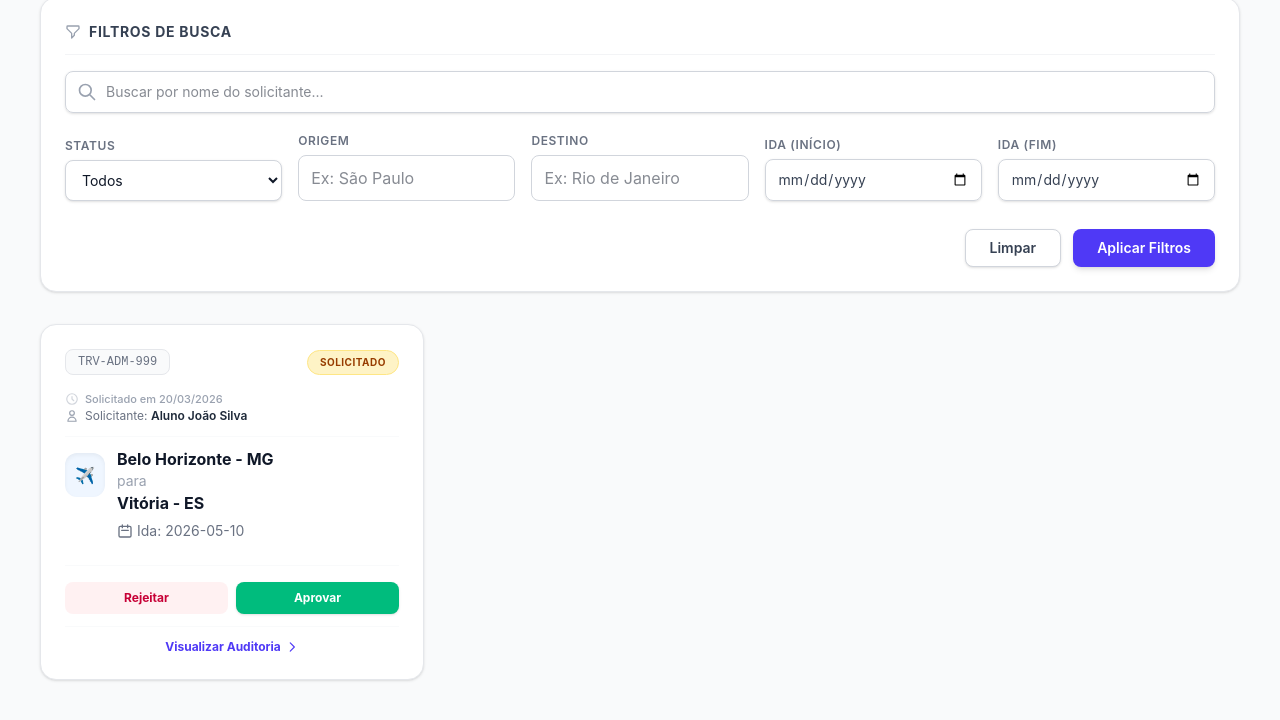
Test case: Travel Front-end E2E - Fluxos de Negócio › Visão do Admin › deve aprovar um pedido via SweetAlert2
(page scrolled)
Click the button "Aprovar": (318, 598) [236, 582, 399, 614]
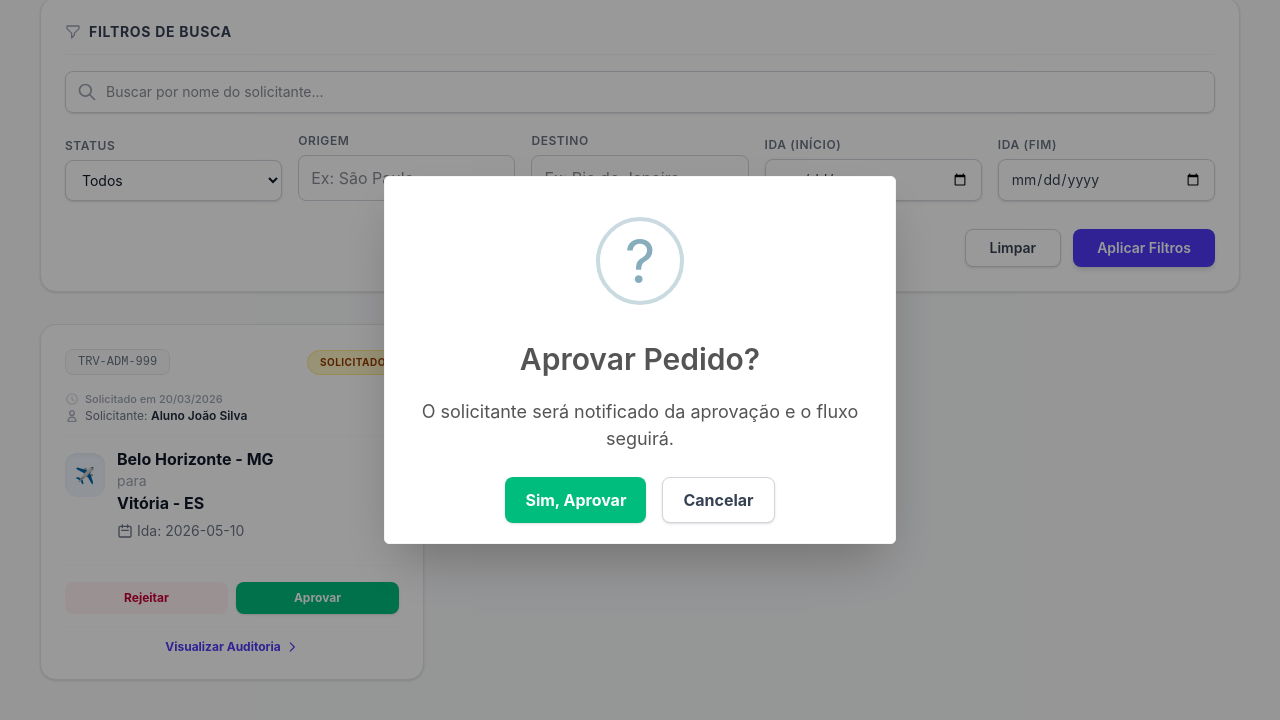
expect the heading "Aprovar Pedido?" is shown: met, box [520, 341, 760, 377]
Click the button "Sim, Aprovar": (576, 501) [505, 478, 646, 524]
(page scrolled)
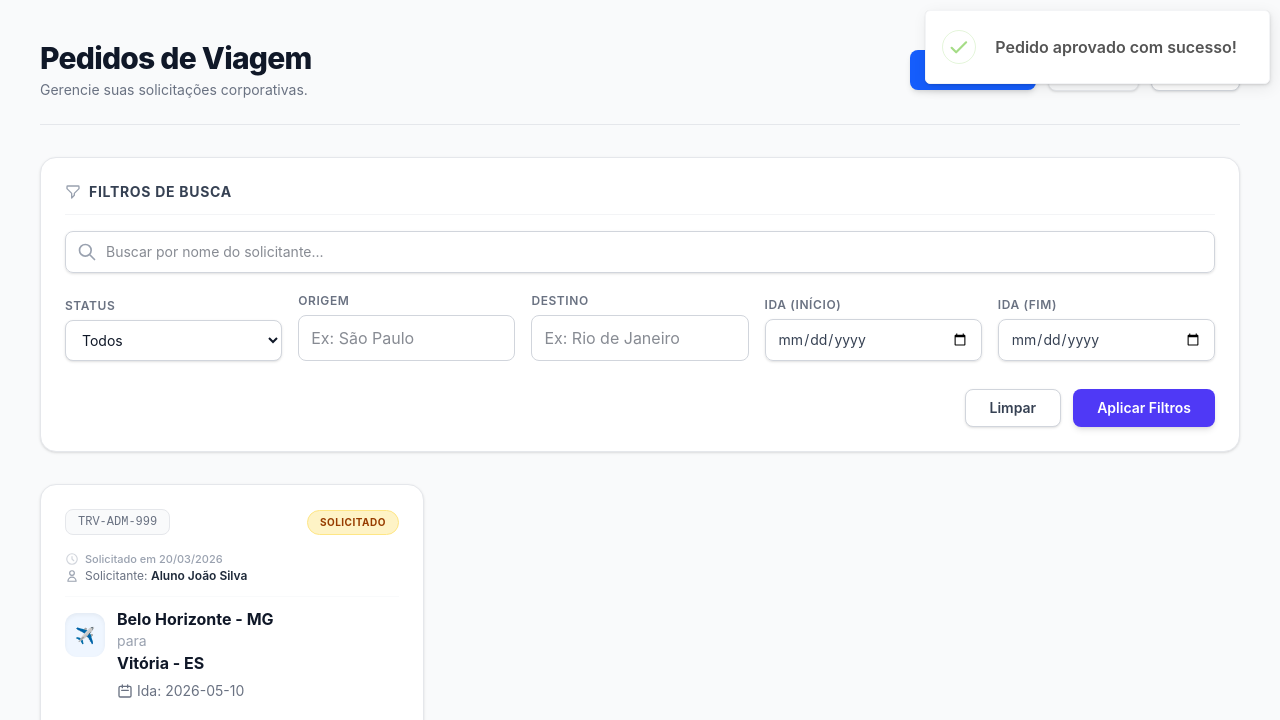
expect the heading "Pedido aprovado com sucesso!" is shown: met, box [995, 35, 1237, 59]
